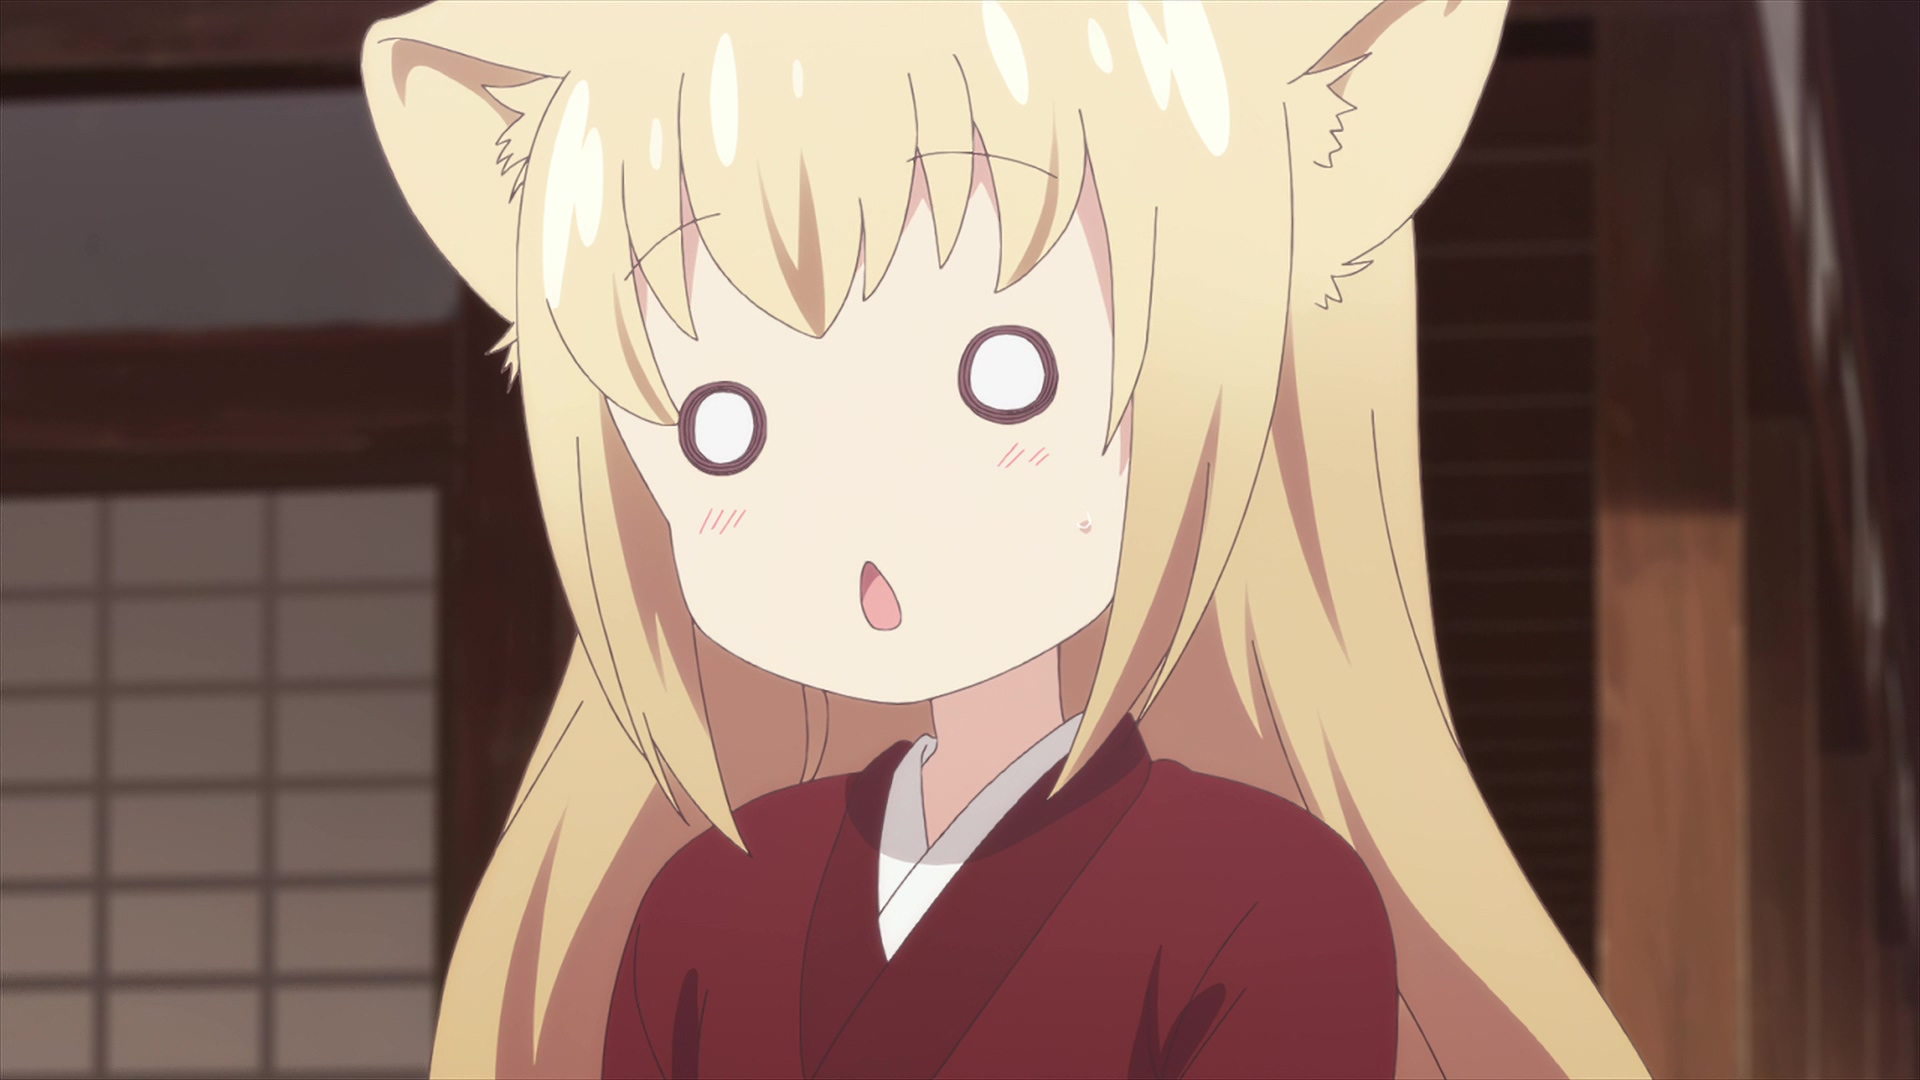柚: (363, 1, 1644, 1080)
